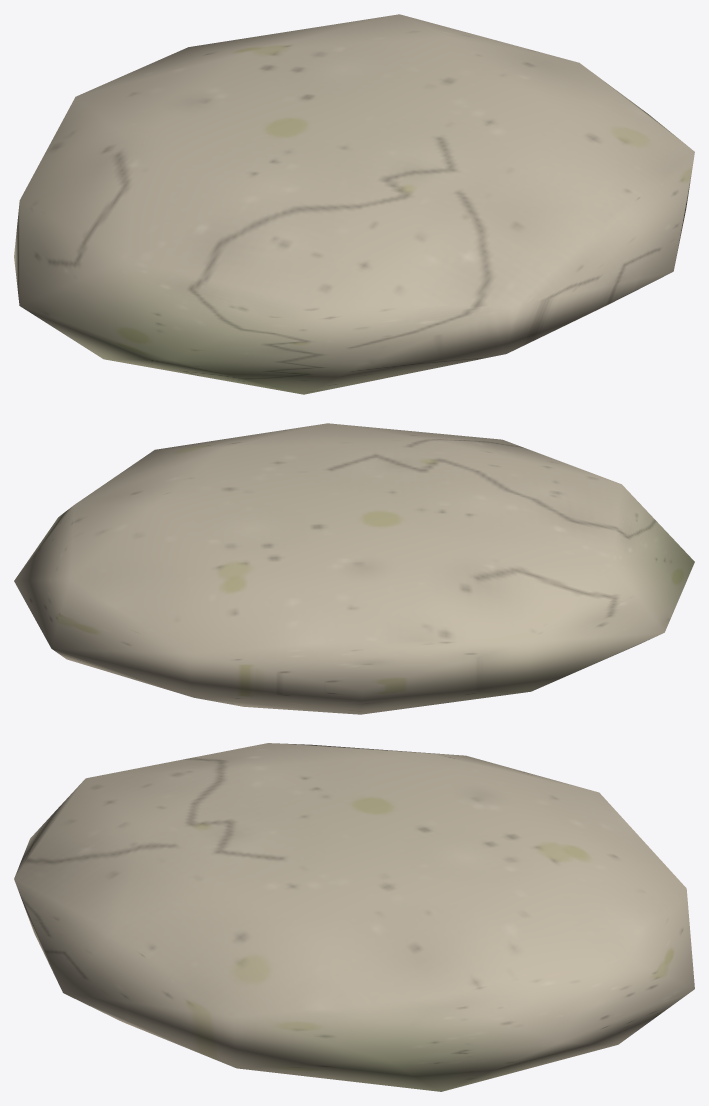
File: region-prop-261.glb
3 views of the same model, one above another, from view 1: azimuth 30°, elevation 25°; view 2: azimuth 150°, elevation 25°; view 3: azimuth 270°, elevation 25° (orthographic). The views are drawn at different scales.
Visible parts, largest first — view 1: props_rock_0; view 2: props_rock_0; view 3: props_rock_0.
Boxes of the visible parts, x1,y1,x2,y2 form: props_rock_0: (14,14,694,394); props_rock_0: (14,423,694,714); props_rock_0: (14,743,694,1091).
Size of the model in its own units: 0.6596 by 0.1667 by 0.6014.
Materials: 1 (1 with a texture image).
